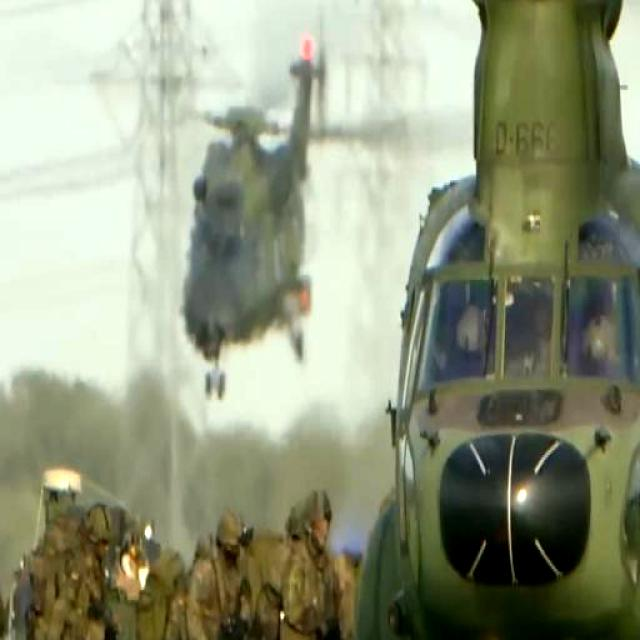drone: (179, 32, 315, 402)
